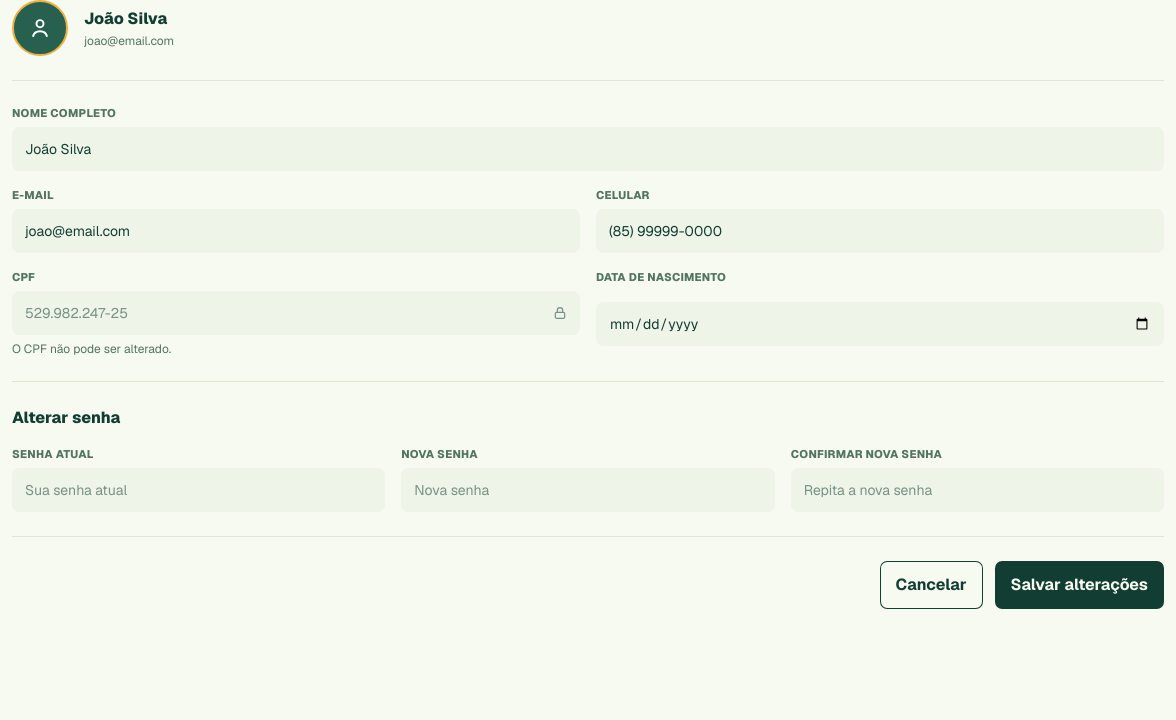
Test: FormularioEdicaoPerfil › mostra o campo vazio para quem não tem data de nascimento e pede o preenchimento ao salvar
expect the date field labelled "Data de nascimento" is empty: met, box [596,302,1164,346]
Replace the text in the field labelled "Nome completo" with "João Souza" at (588, 149), box [12,127,1164,171]
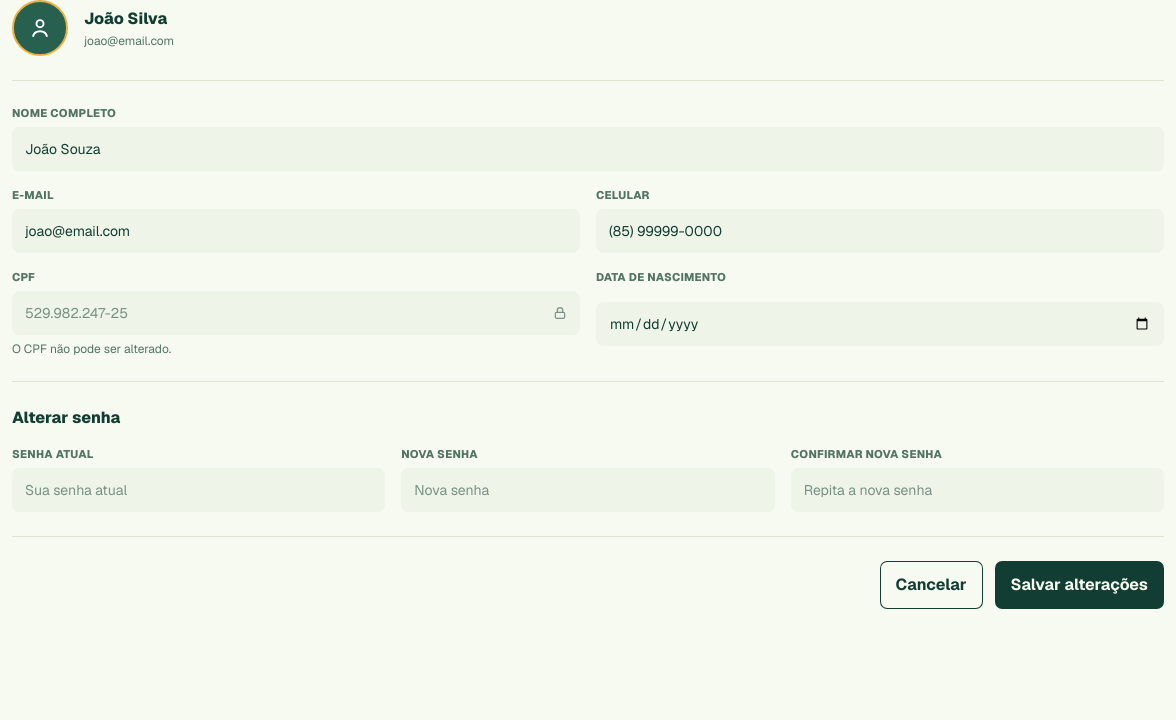
Click the button "Salvar alterações" at (1079, 585), box [995,561,1164,609]
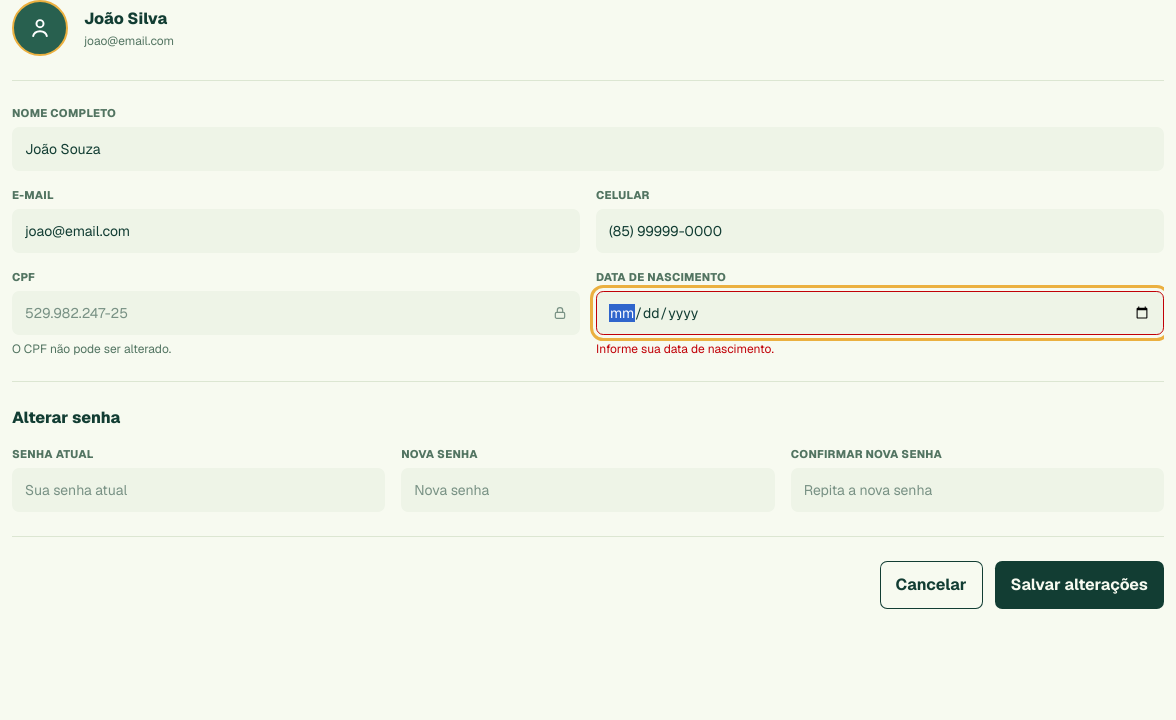
expect the text "Informe sua data de nascimento." is shown: met, box [596,341,774,357]
Type "1995-04-20" into the date field labelled "Data de nascimento" at (880, 313), box [596,291,1164,335]
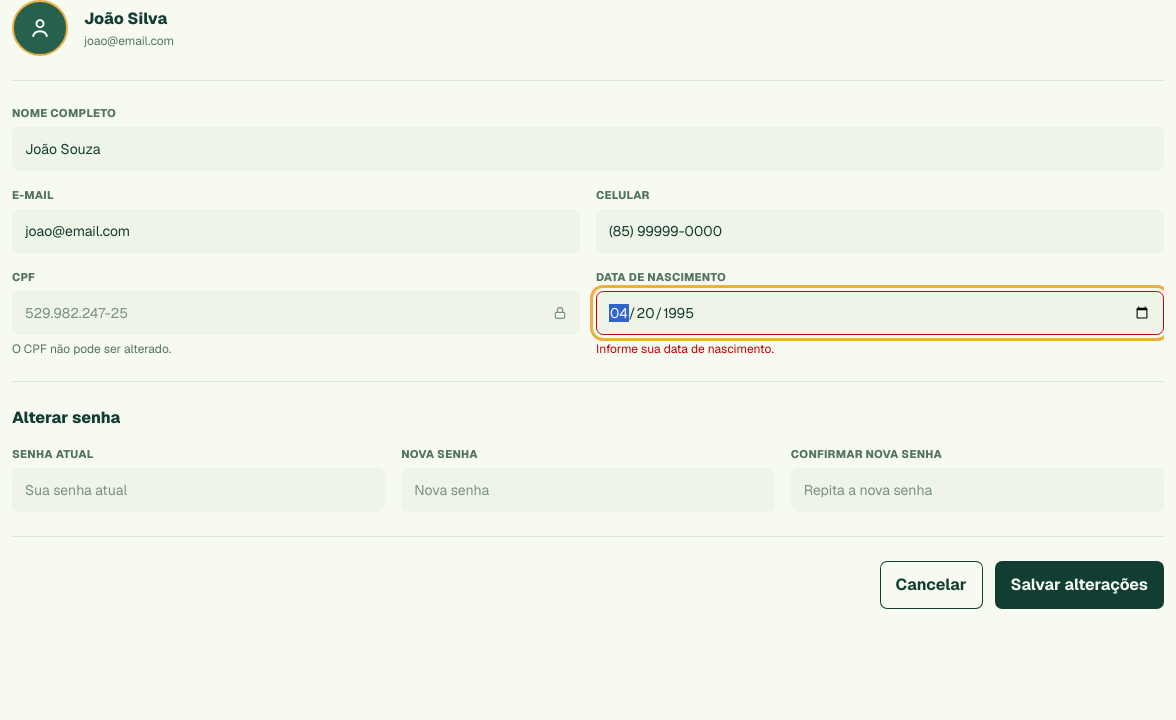
Click the button "Salvar alterações" at (1079, 585), box [995,561,1164,609]
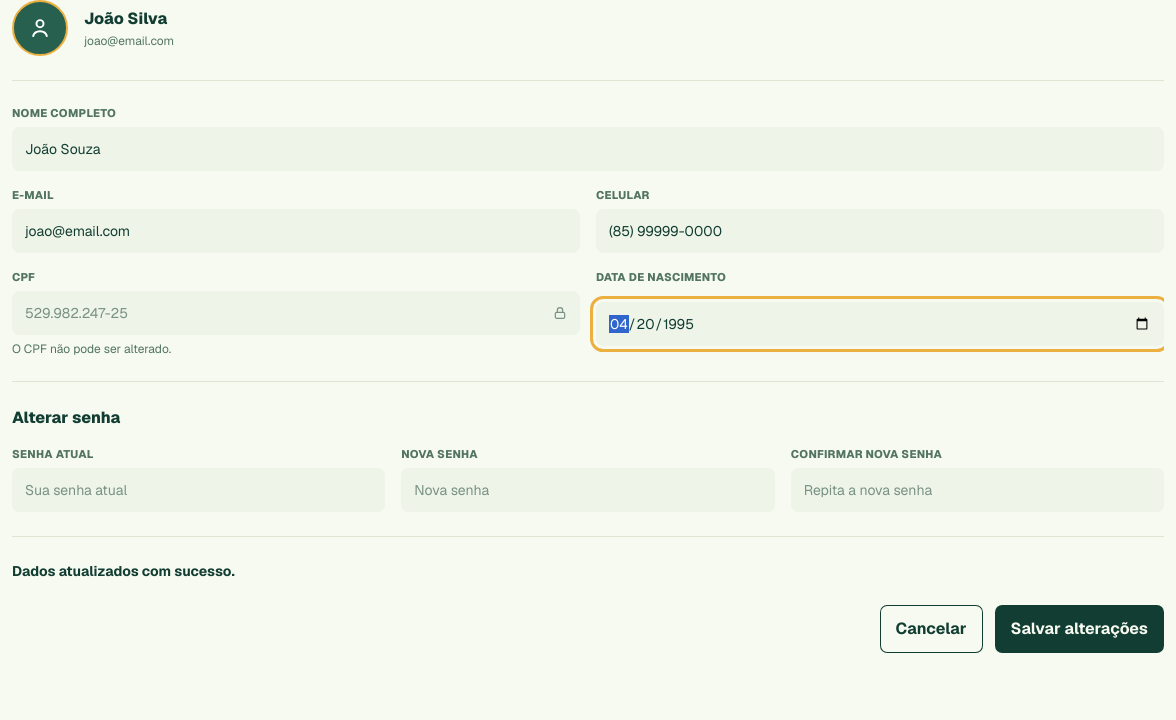
expect the text "Dados atualizados com sucesso." is shown: met, box [12,562,235,580]
